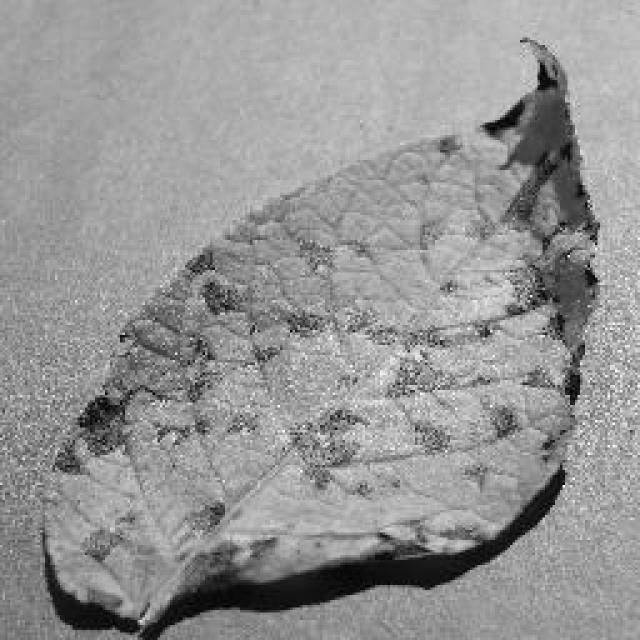Potato: (35, 35, 603, 635)
